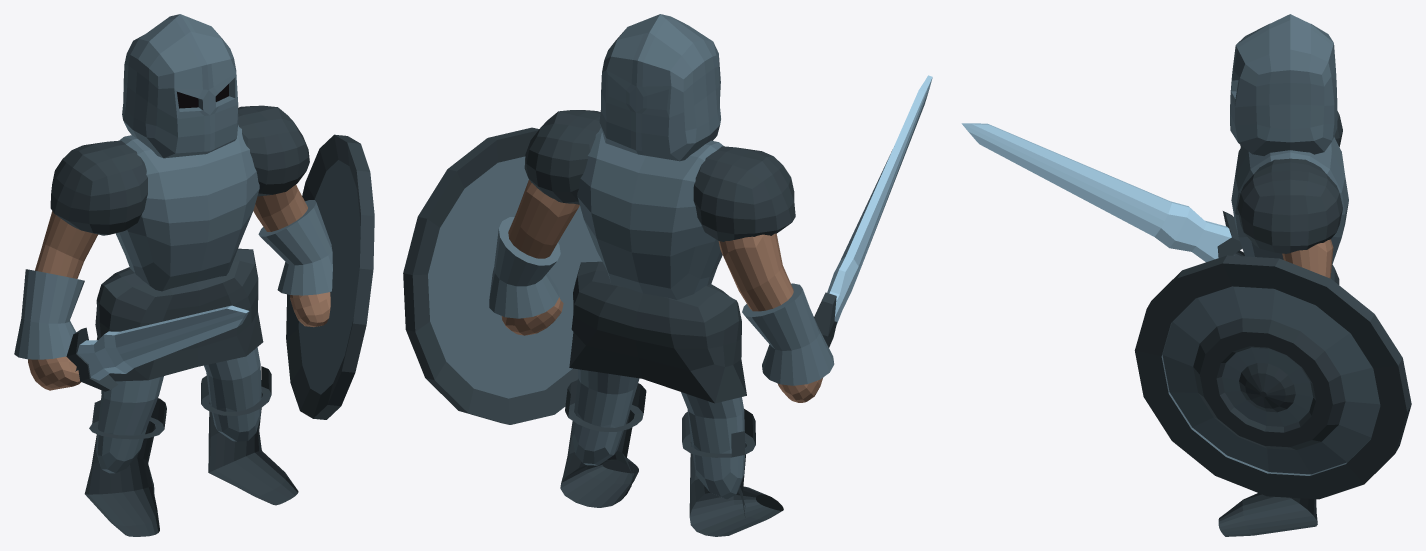
File: warrior_v1_test.fbx
The picture shows the model from 3 angles, left to right: view 1: azimuth 30°, elevation 25°; view 2: azimuth 150°, elevation 25°; view 3: azimuth 270°, elevation 25°; orthographic projection. The views are drawn at different scales.
Parts seen in each view (by area): view 1: warrior; view 2: warrior; view 3: warrior.
Part boxes in pixels (x1,y1,x2,y2): warrior: [14, 14, 374, 536]; warrior: [403, 14, 932, 536]; warrior: [961, 14, 1411, 536].
Bounding box in the file's own units: 114 × 147 × 124.
